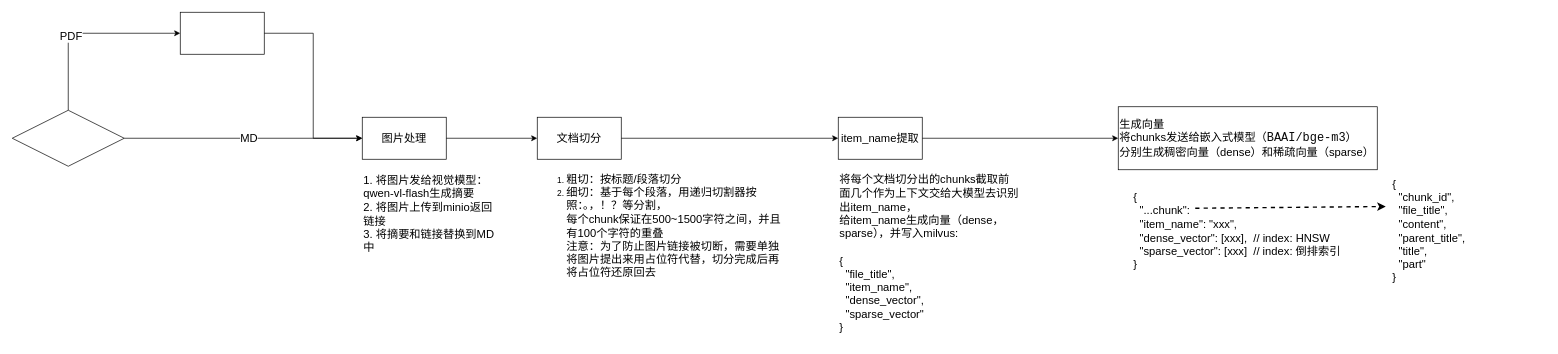
The diagram is 1558 pixels wide and 354 high, and some of its shapes have lost their labels. Each missing label, with the centre of its shape:
"PDF/MD" belongs at point 68,138.
"使用MinerU将PDF转为MD" belongs at point 222,33.
